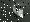person: (14, 4, 23, 17)
